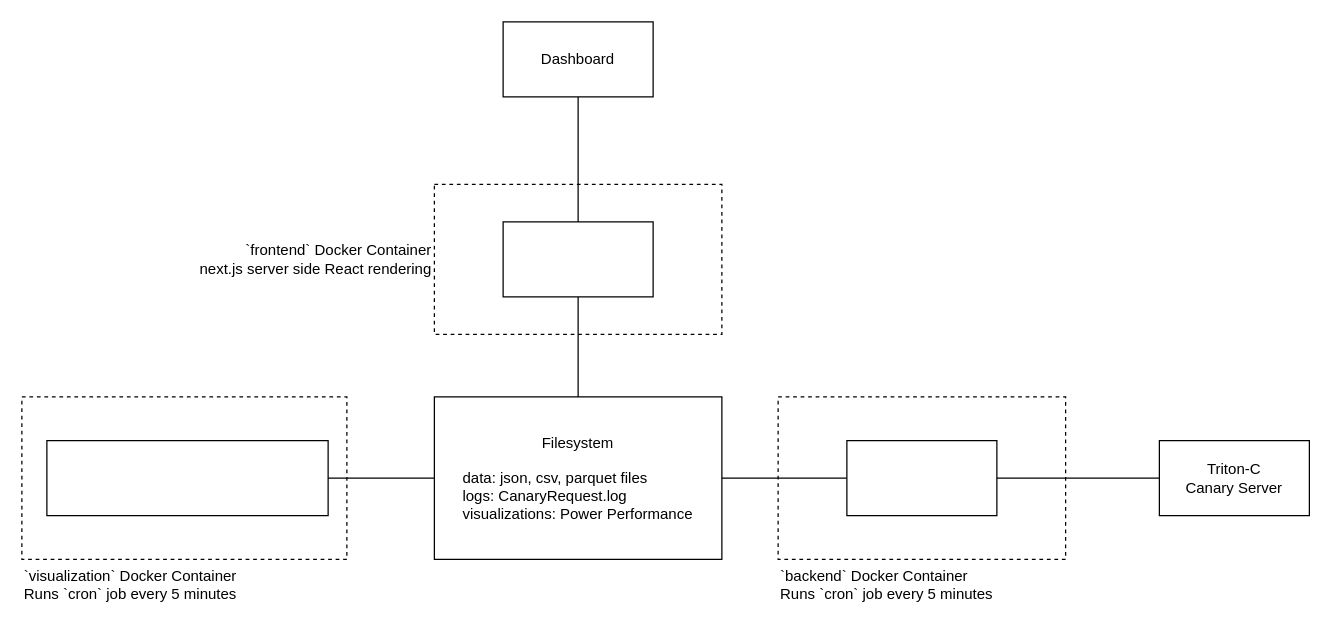
This 1331x626 diagram has some shape labels left out. The centre of each missing label's shape, as x and y in pixels:
HTTP Server Next.js React.js: pixel 577 259
Python `CanaryRequest`.py: pixel 921 477
Python `power_matrix_image_generator.py`: pixel 187 477
